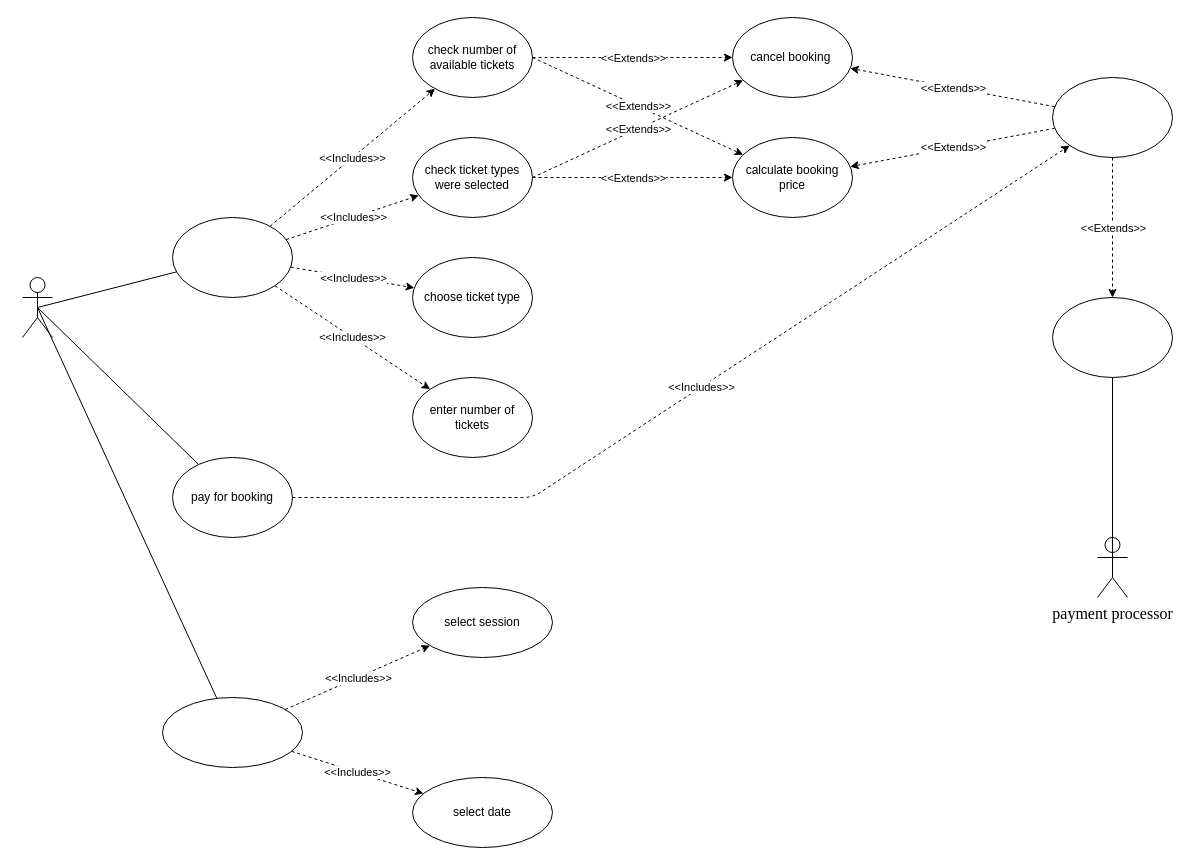
Image size: 1190x865. Some labels were removed from this diagram. The shapes that lost their labels are listed below. From the top down, each one's centre as x and y in pixels, then its label:
At point (1112, 117): "check details were entered correctly".
At point (232, 257): "book tickets".
At point (37, 307): "Student".
At point (1112, 337): "proccess transaction".
At point (232, 732): "select movie".
